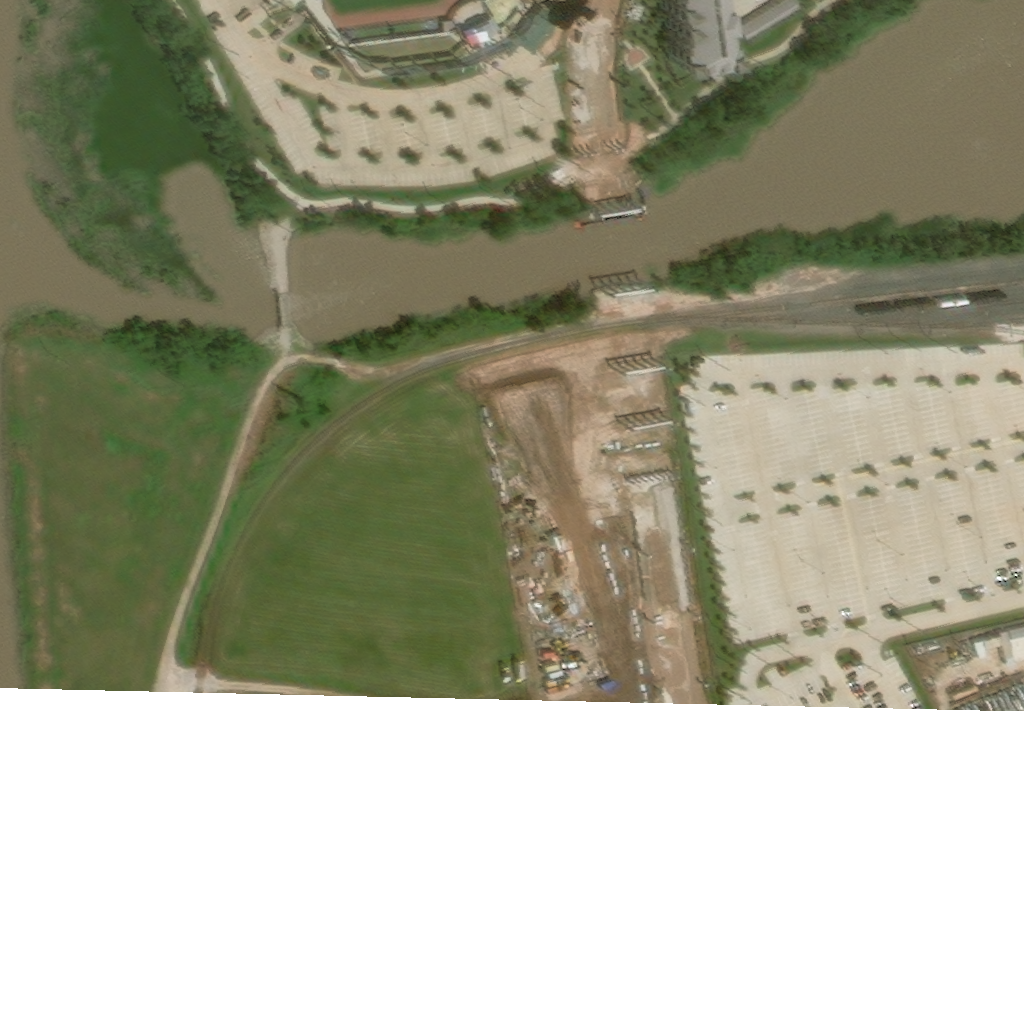minor_damage: (504, 4, 560, 56), (958, 691, 985, 703), (932, 650, 944, 659), (924, 654, 931, 662)
no_damage: (666, 0, 724, 66), (739, 0, 801, 44), (463, 15, 501, 45), (1004, 637, 1021, 673), (719, 0, 736, 27), (979, 646, 992, 664), (988, 643, 999, 656), (996, 641, 1007, 654), (1015, 634, 1022, 642)
